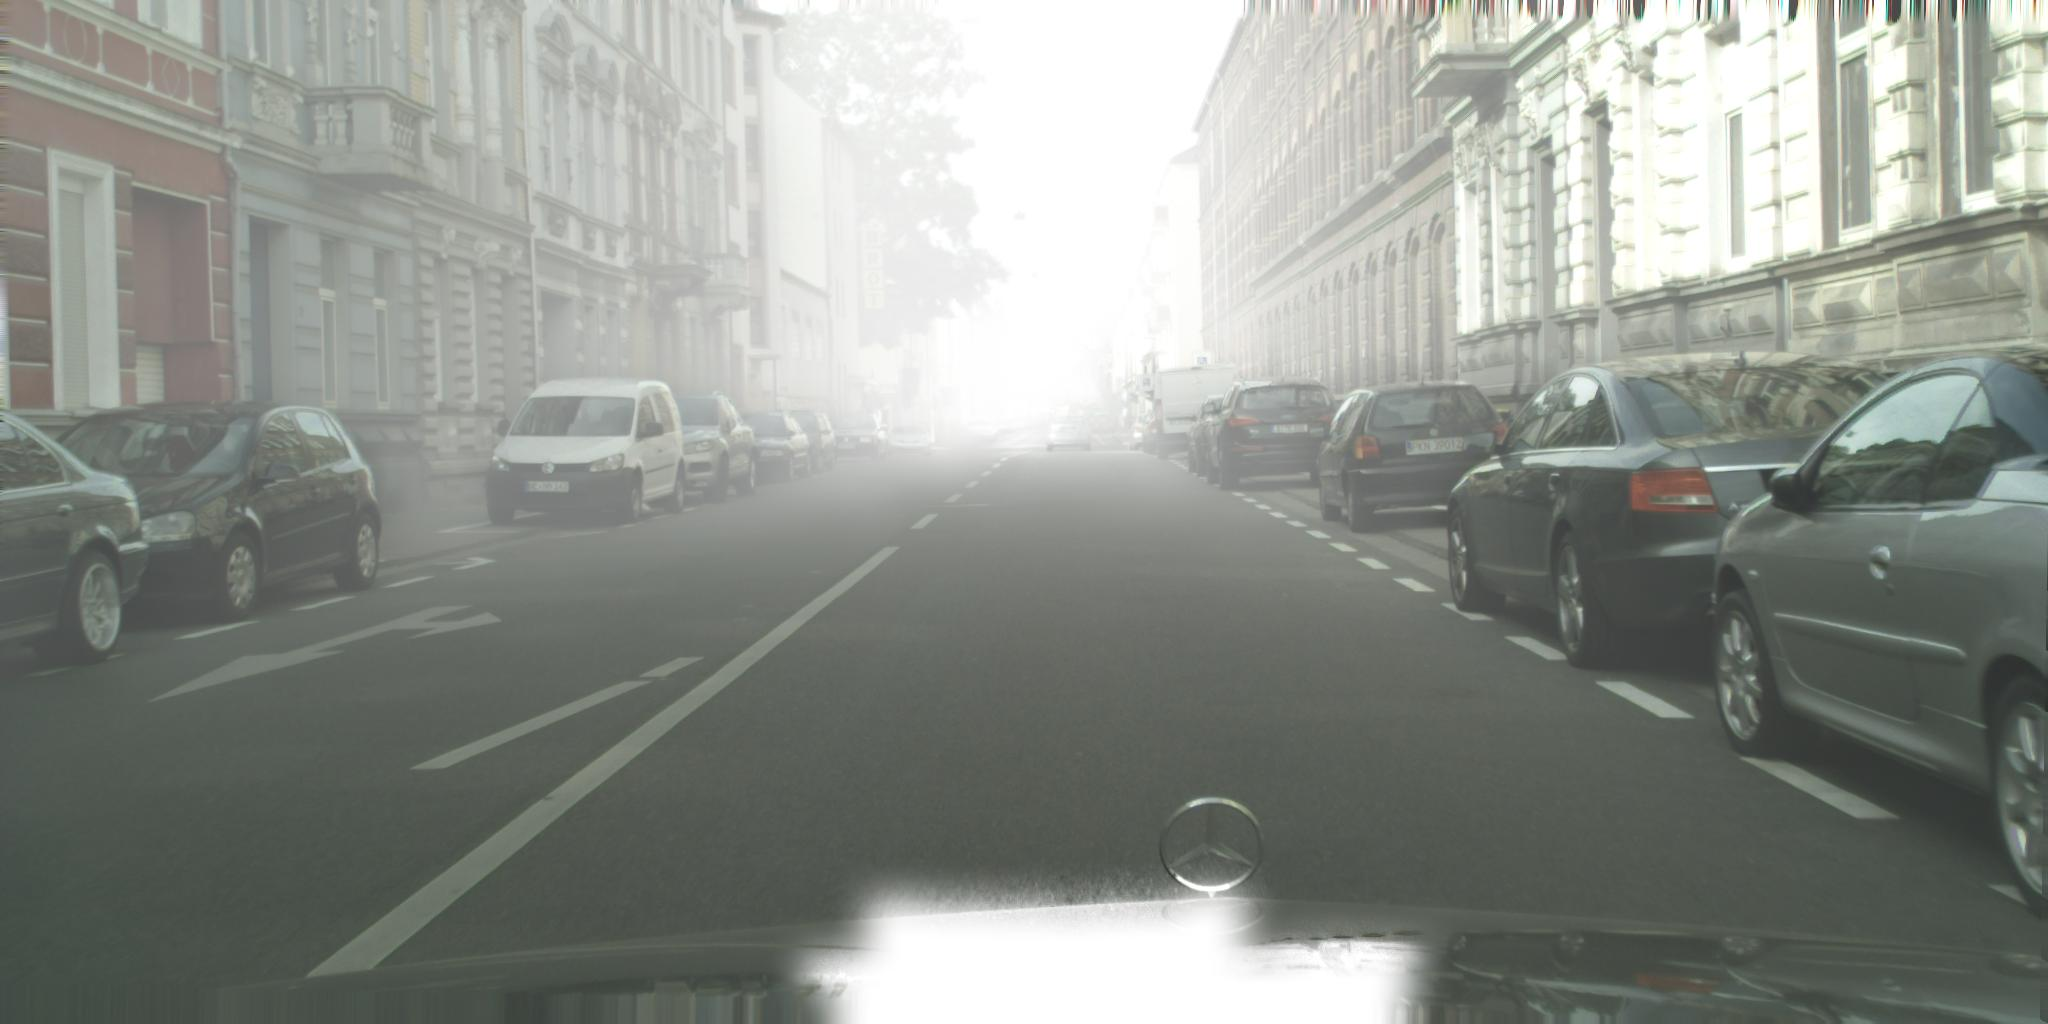car: (1711, 347, 2048, 920), (1445, 351, 1900, 670), (51, 400, 384, 622), (1, 410, 149, 669), (1309, 380, 1509, 534), (488, 377, 688, 526), (1202, 376, 1347, 490), (658, 394, 759, 503), (735, 413, 814, 482), (773, 411, 839, 475), (1187, 396, 1228, 477), (827, 414, 889, 462), (1048, 415, 1093, 452), (884, 426, 933, 458)
